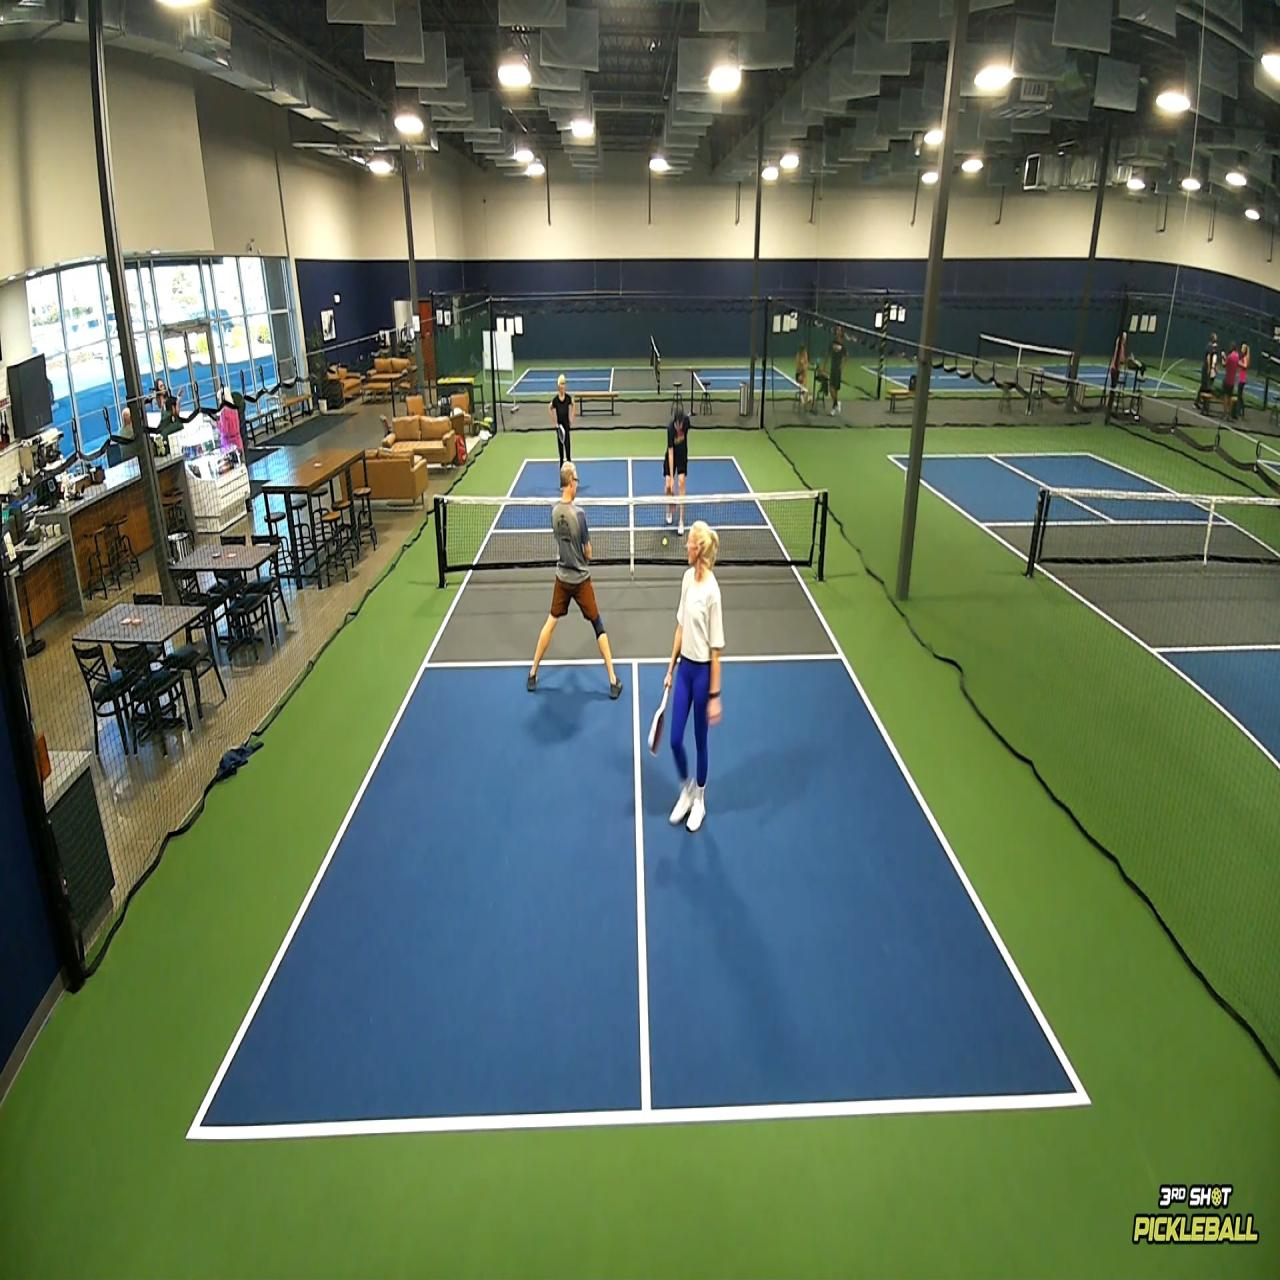Pickleball: (661, 535, 668, 545)
